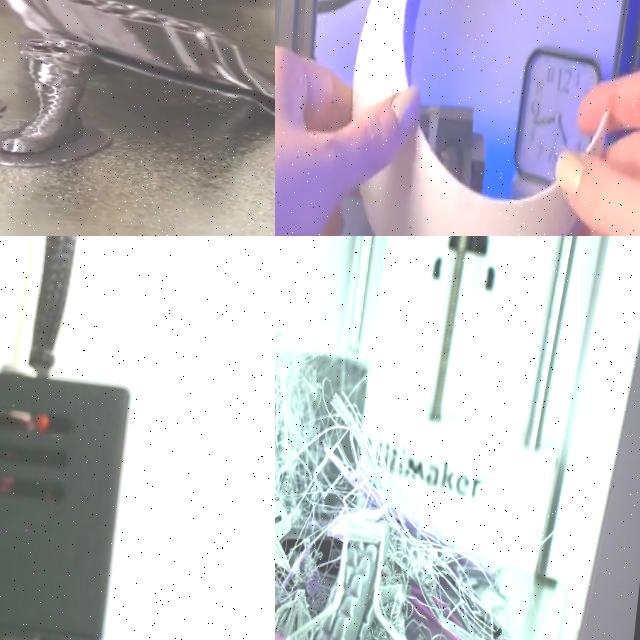spaghetti: (275, 333, 513, 640)
